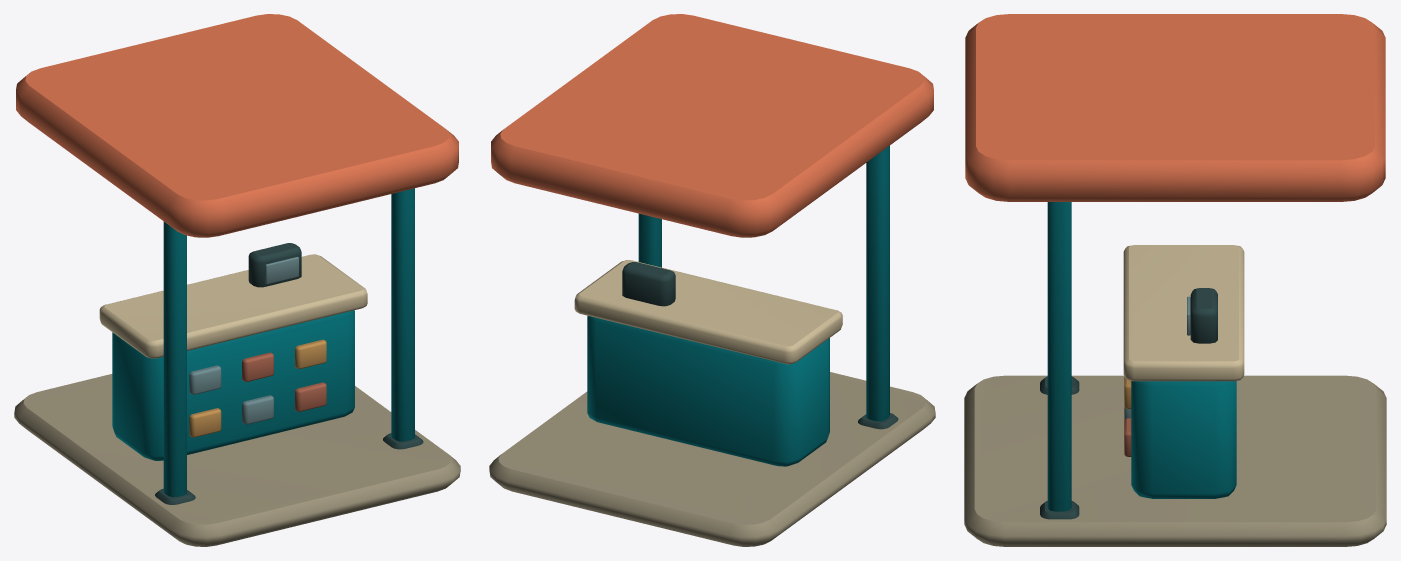
File: ocean_restaurant_2.glb
The picture shows the model from 3 angles, left to right: view 1: azimuth 30°, elevation 25°; view 2: azimuth 150°, elevation 25°; view 3: azimuth 270°, elevation 25°; orthographic projection. The views are drawn at different scales.
Visible parts, largest first — view 1: Restaurant2; view 2: Restaurant2; view 3: Restaurant2.
Boxes of the visible parts, x1,y1,x2,y2 form: Restaurant2: (14,14,460,546); Restaurant2: (489,14,935,546); Restaurant2: (964,14,1386,546).
Size of the model in its own units: 2.16 by 2.51 by 2.48.
